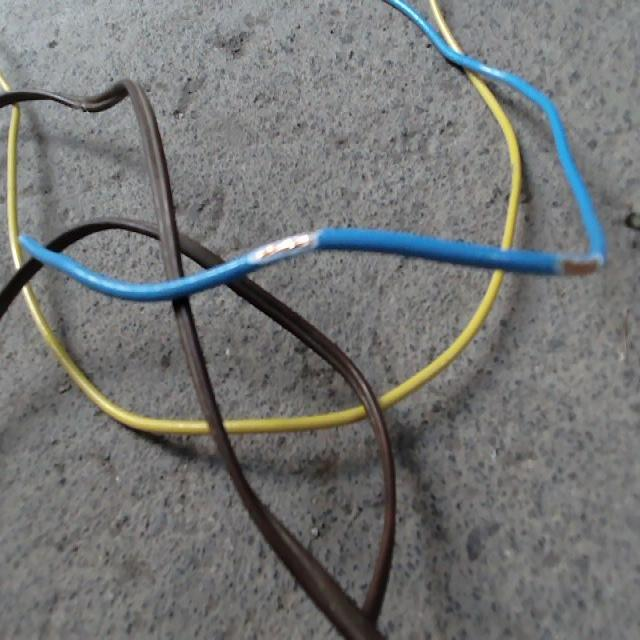-: (251, 229, 319, 260), (559, 252, 603, 277)
